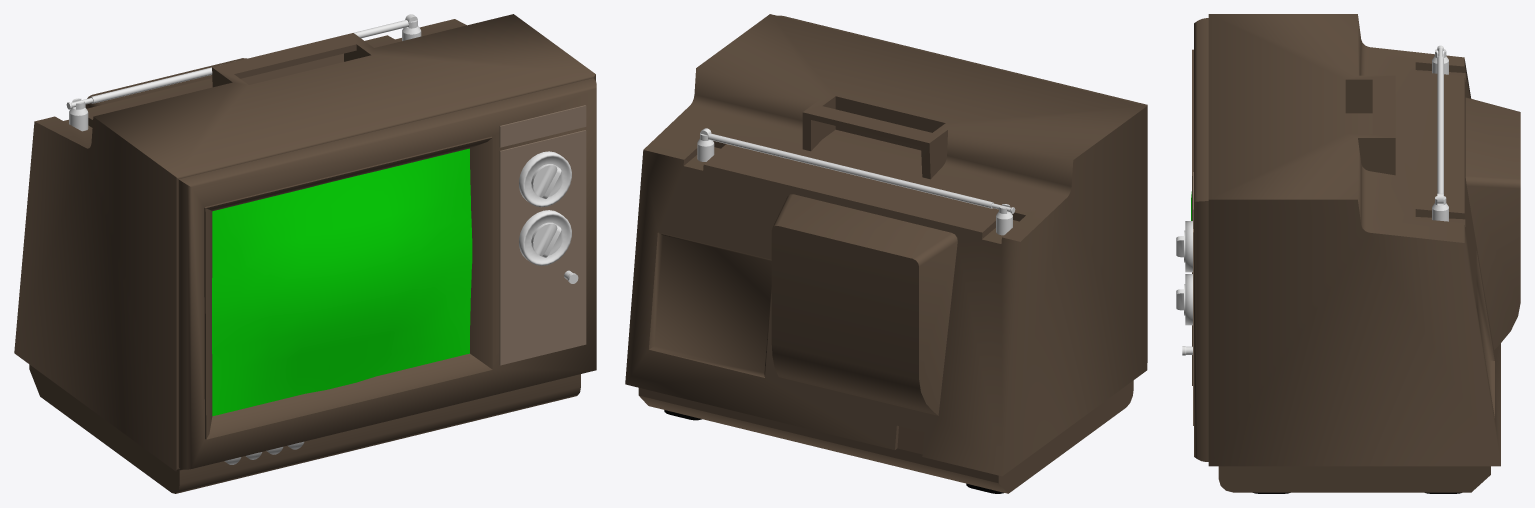
File: TV_LearningActivity2.fbx
3 views of the same model, side by side, from view 1: azimuth 30°, elevation 25°; view 2: azimuth 150°, elevation 25°; view 3: azimuth 270°, elevation 25° (orthographic). The views are drawn at different scales.
Visible parts, largest first — view 1: TV; view 2: TV; view 3: TV.
Boxes of the visible parts, bbox=[...] form: TV: bbox=[14, 14, 596, 493]; TV: bbox=[625, 14, 1147, 493]; TV: bbox=[1176, 14, 1520, 493].
Bounding box in the file's own units: 60 × 45.68 × 47.08.
